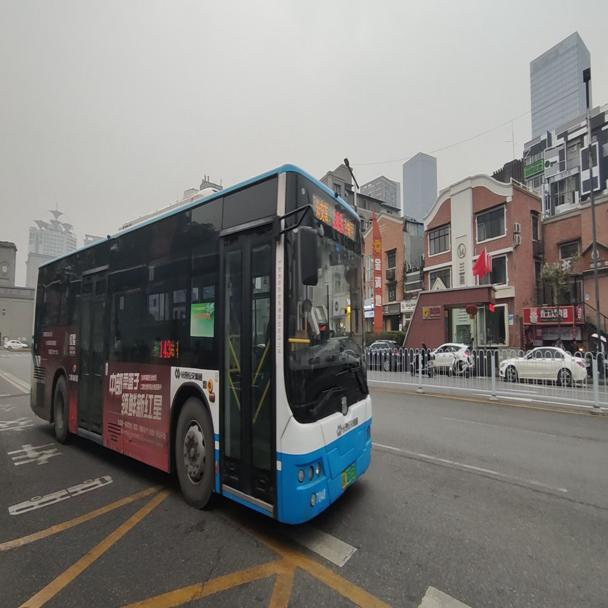bus: (28, 162, 372, 526)
screen: (329, 202, 343, 234), (158, 334, 170, 360)
